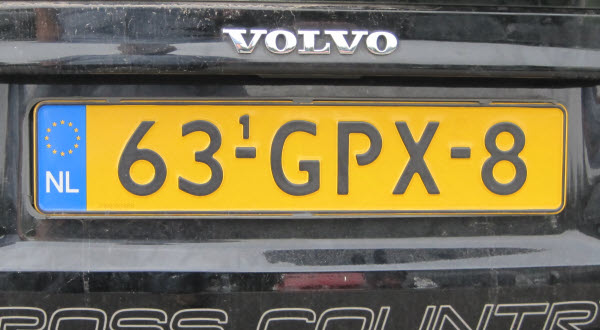license_plate: (32, 101, 566, 219)
